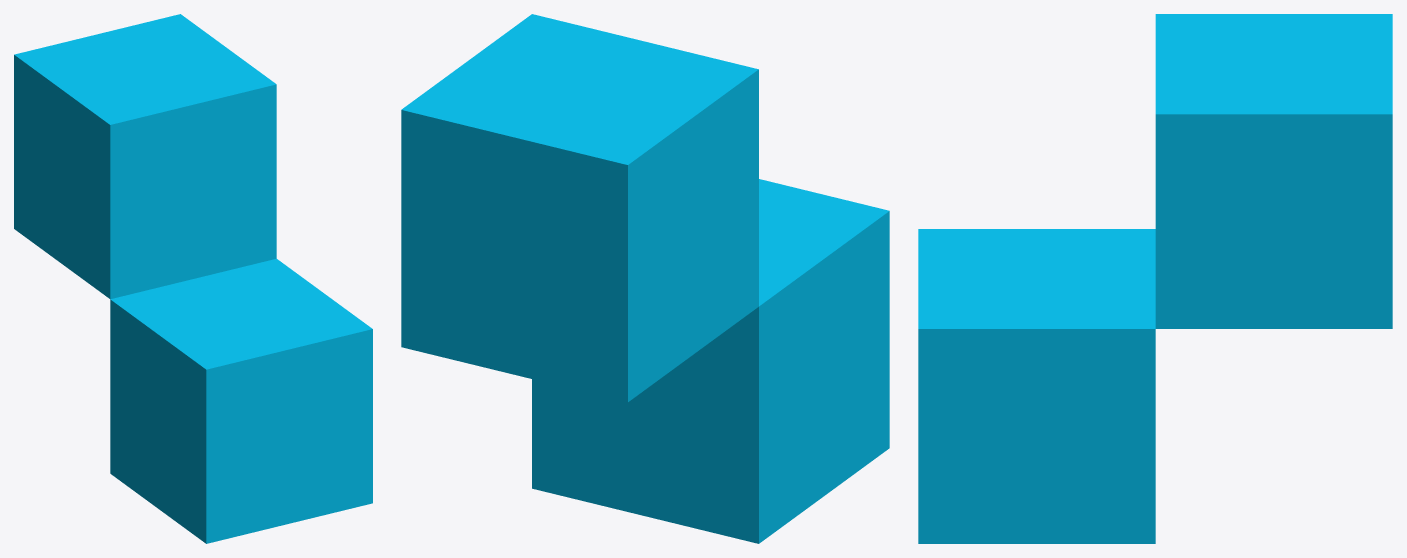
File: Saliva1.obj
3 views of the same model, side by side, from view 1: azimuth 30°, elevation 25°; view 2: azimuth 150°, elevation 25°; view 3: azimuth 270°, elevation 25° (orthographic). The views are drawn at different scales.
Bounding box in the file's own units: 0.1 × 0.2 × 0.2.
1 material, 1 textured.
